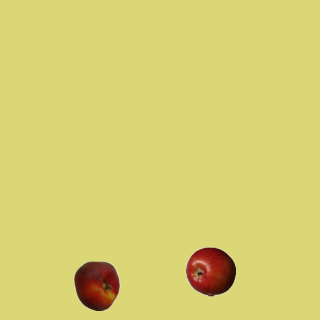Apple Braeburn: (185, 246, 235, 296)
Nectarine Flat: (71, 260, 121, 310)
